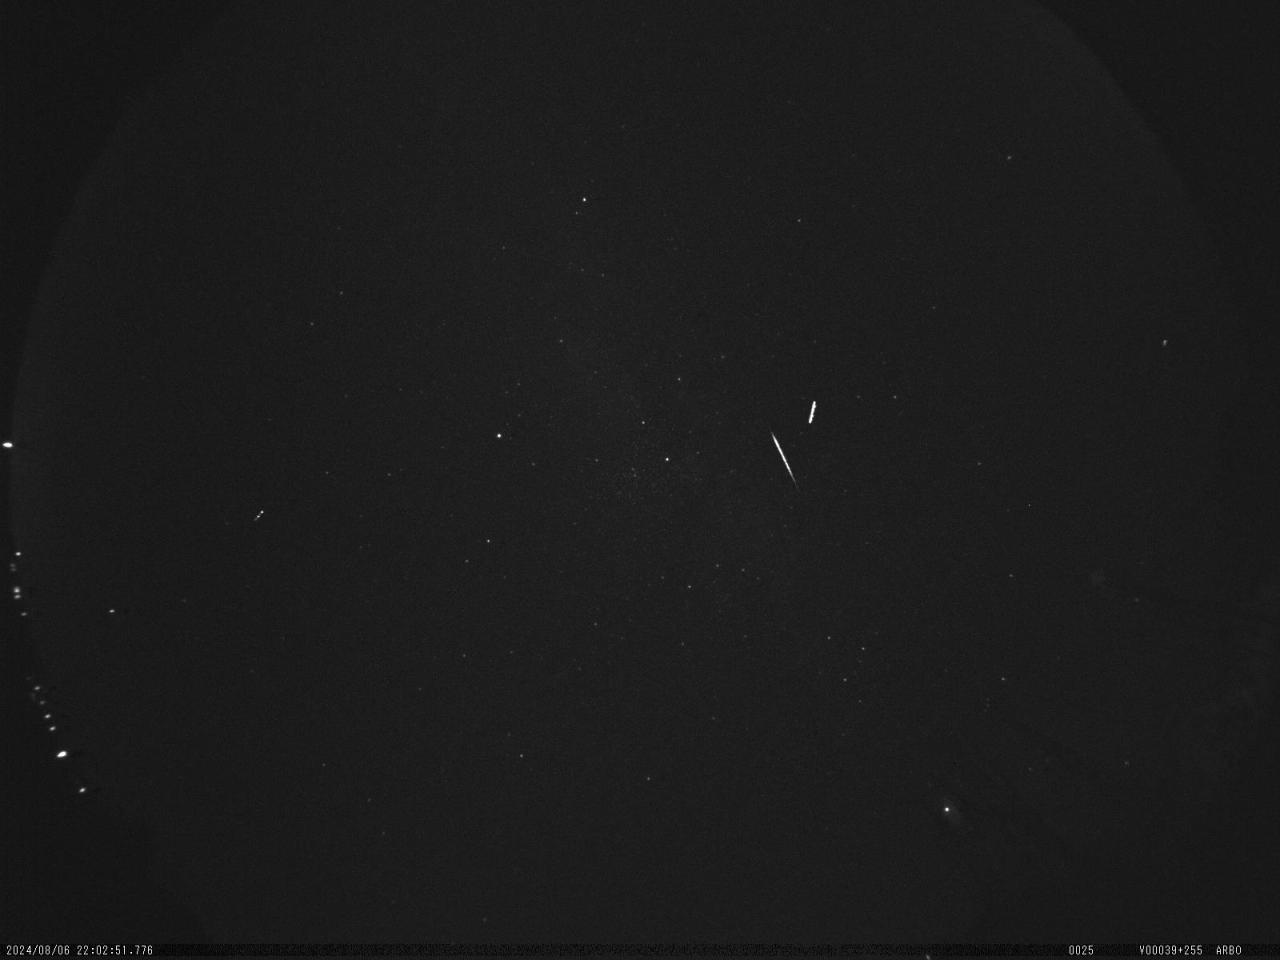Meteor: (768, 429, 797, 486), (805, 398, 816, 425)
